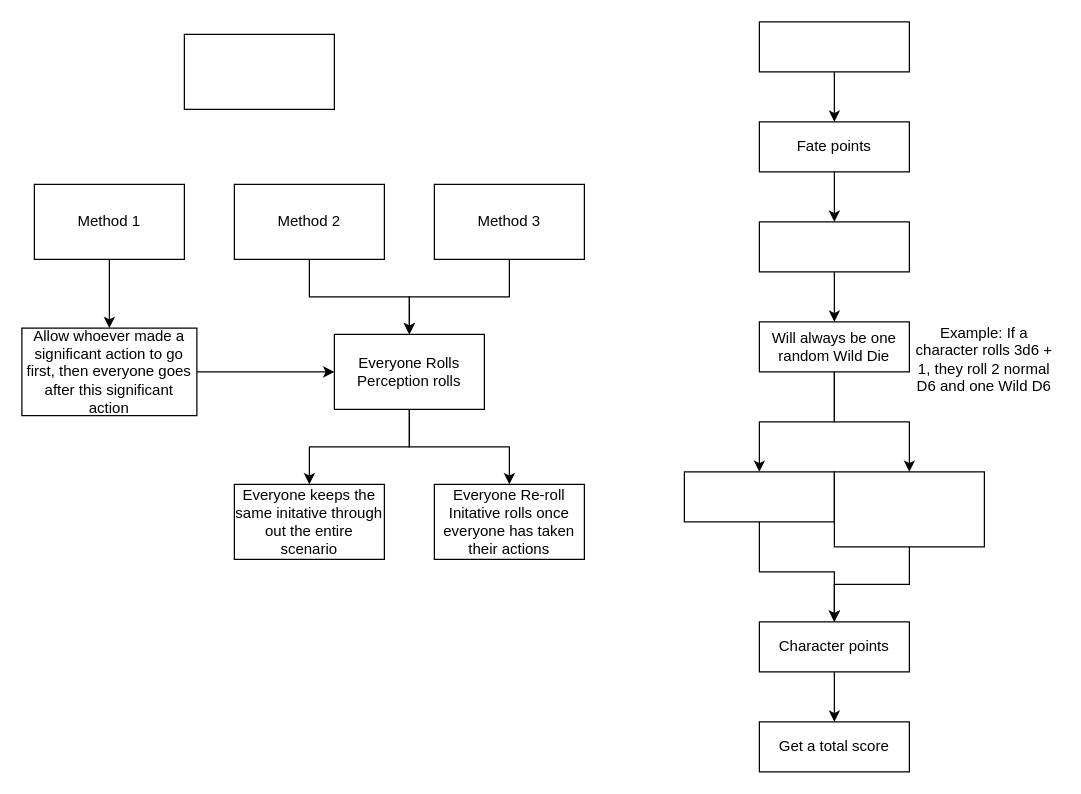
Image size: 1081x794. Some labels were removed from this diagram. Here are the shapes that lost their labels. From the top down, the centre of each, then its label:
At pixel 833 46: "Making actions".
At pixel 258 71: "Initiative".
At pixel 833 246: "Roll a 1-N D6 + Pips (added bonus)".
At pixel 758 496: "If players get a 6 on a Wild Dice, they get to roll another Wild Dice".
At pixel 908 509: "If players get a 1 on a Wild Dice, It cancels out the highest roll that you made".
